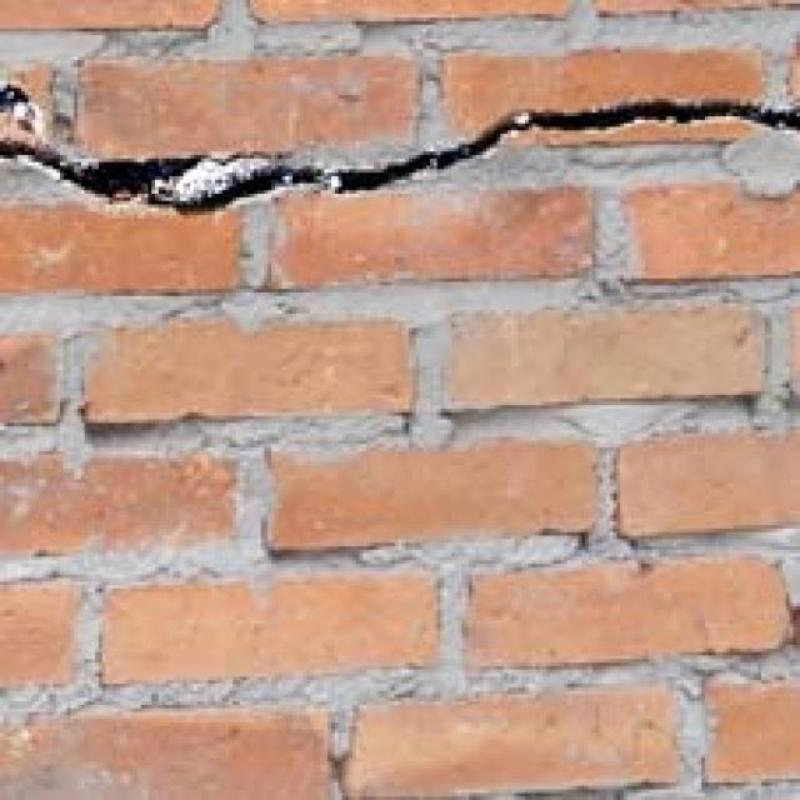pothole: (150, 102, 800, 211), (0, 143, 194, 198), (0, 84, 34, 130)
